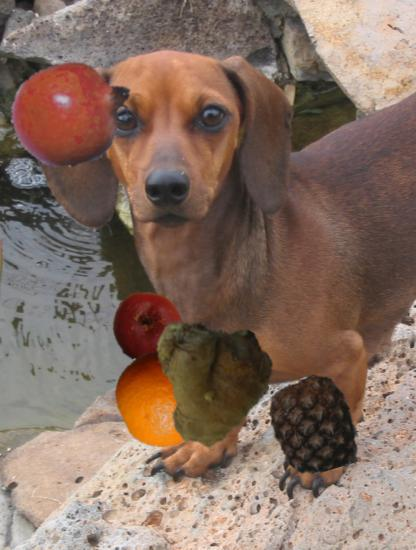Ginger: (141, 316, 269, 444)
Nectarine: (111, 291, 184, 364)
Orange: (116, 350, 213, 447)
Pineapple: (265, 377, 362, 474)
Pomegranate: (11, 52, 136, 177)
